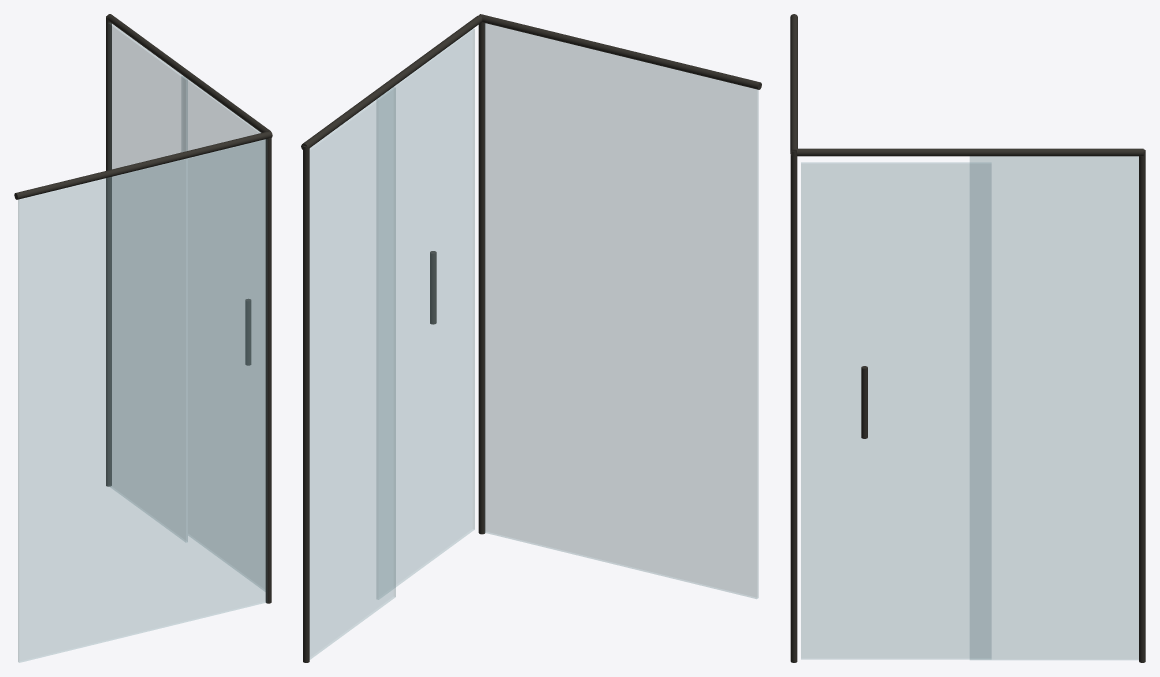
Rendered from bathroom-shower-enclosure.gltf.
3 renders of one model, left to right at view 1: azimuth 30°, elevation 25°; view 2: azimuth 150°, elevation 25°; view 3: azimuth 270°, elevation 25°, orthographic. The views are drawn at different scales.
Parts seen in each view (by area): view 1: Shower fixed glass screen, Shower fixed east glass panel, Shower sliding glass door, Shower frame upright (×2), Shower screen top rail, Shower sliding track, Shower glass door handle; view 2: Shower fixed glass screen, Shower sliding glass door, Shower fixed east glass panel, Shower frame upright (×2), Shower screen top rail, Shower sliding track; view 3: Shower sliding glass door, Shower fixed east glass panel, Shower frame upright (×2), Shower sliding track, Shower screen top rail.
Part boxes in pixels (x1,y1,x2,y2): Shower fixed glass screen: [18, 139, 266, 662]; Shower fixed east glass panel: [108, 23, 187, 542]; Shower sliding glass door: [181, 76, 265, 591]; Shower frame upright (×2): [106, 16, 271, 603]; Shower screen top rail: [14, 131, 272, 199]; Shower sliding track: [106, 14, 270, 132]; Shower glass door handle: [245, 299, 250, 365]; Shower fixed glass screen: [484, 23, 758, 598]; Shower sliding glass door: [376, 29, 474, 599]; Shower fixed east glass panel: [310, 87, 395, 659]; Shower frame upright (×2): [303, 22, 485, 662]; Shower screen top rail: [479, 14, 761, 89]; Shower sliding track: [301, 15, 482, 149]; Shower sliding glass door: [801, 162, 991, 659]; Shower fixed east glass panel: [970, 156, 1138, 659]; Shower frame upright (×2): [790, 149, 1145, 662]; Shower sliding track: [797, 148, 1143, 156]; Shower screen top rail: [790, 14, 797, 155].
Size of the model in its own units: 1.22 by 2.05 by 1.29.
